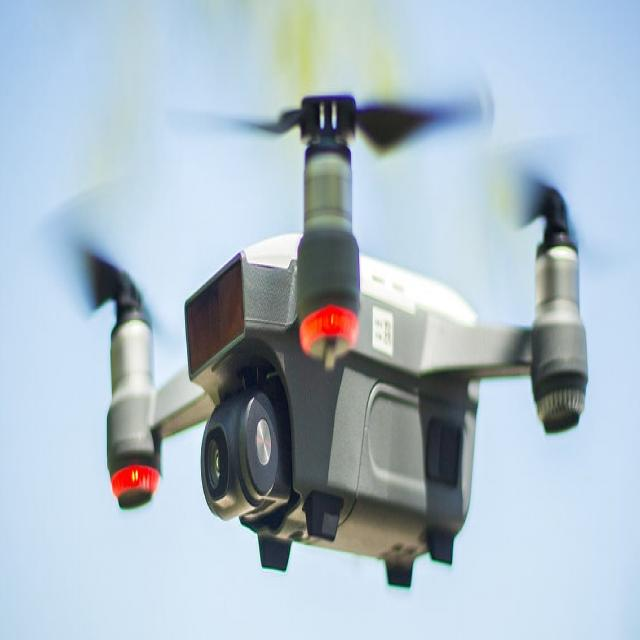drone: (24, 0, 615, 594)
